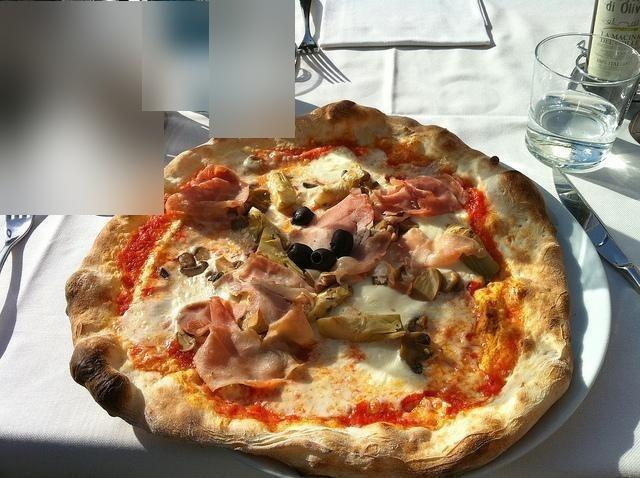glass-normal: (526, 32, 639, 170)
